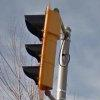Traffic light: (15, 6, 60, 94)
